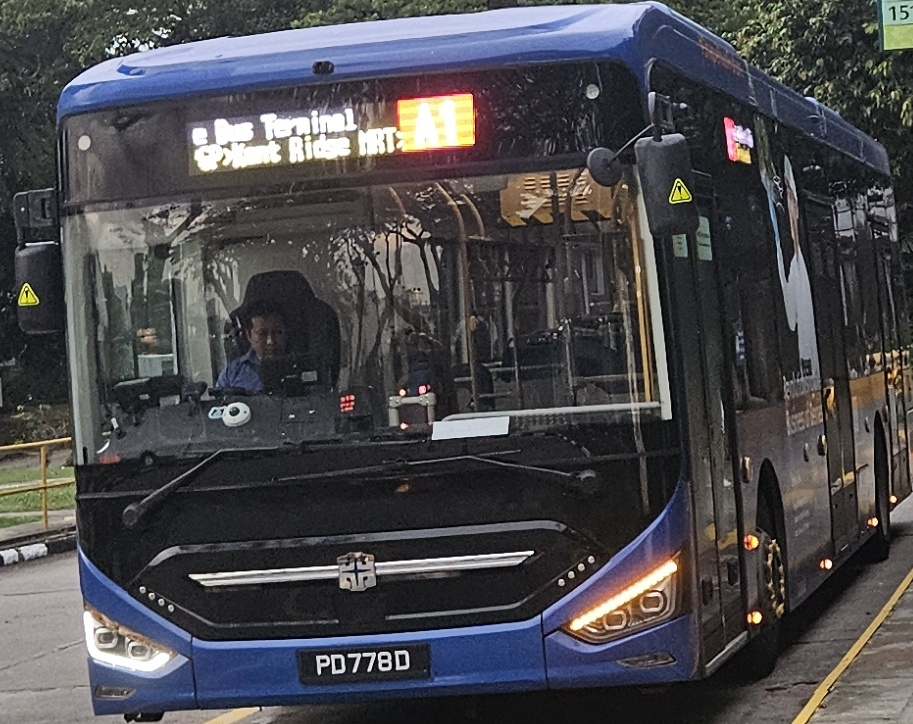bus: (393, 92, 474, 150)
